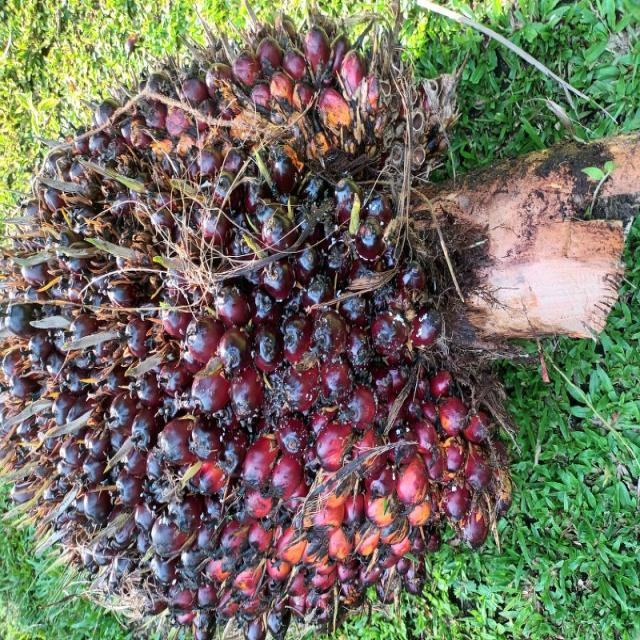fraksi 1: (14, 0, 477, 640)
